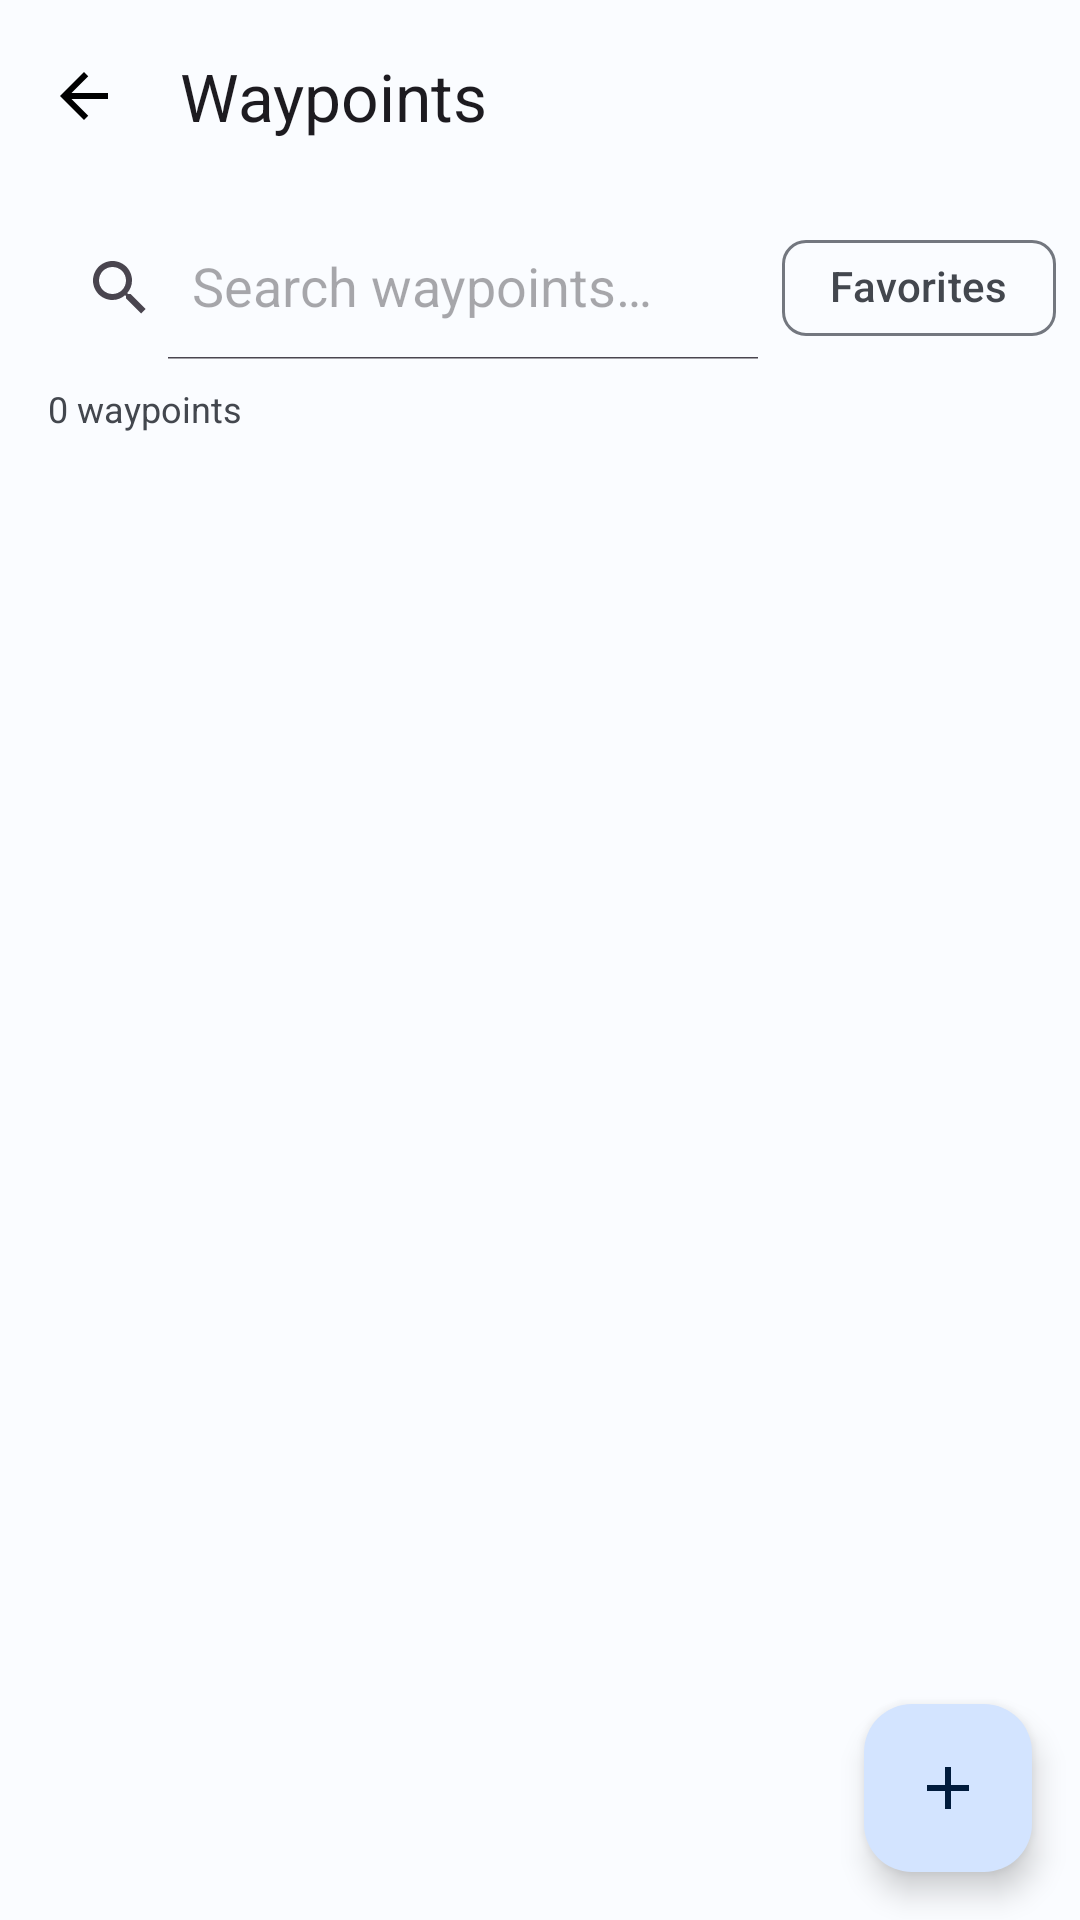

Where icons sit on this 1080*1920 app screen, as [x1, y1, x2, y2]:
Add waypoint: [864, 1704, 1032, 1872]
